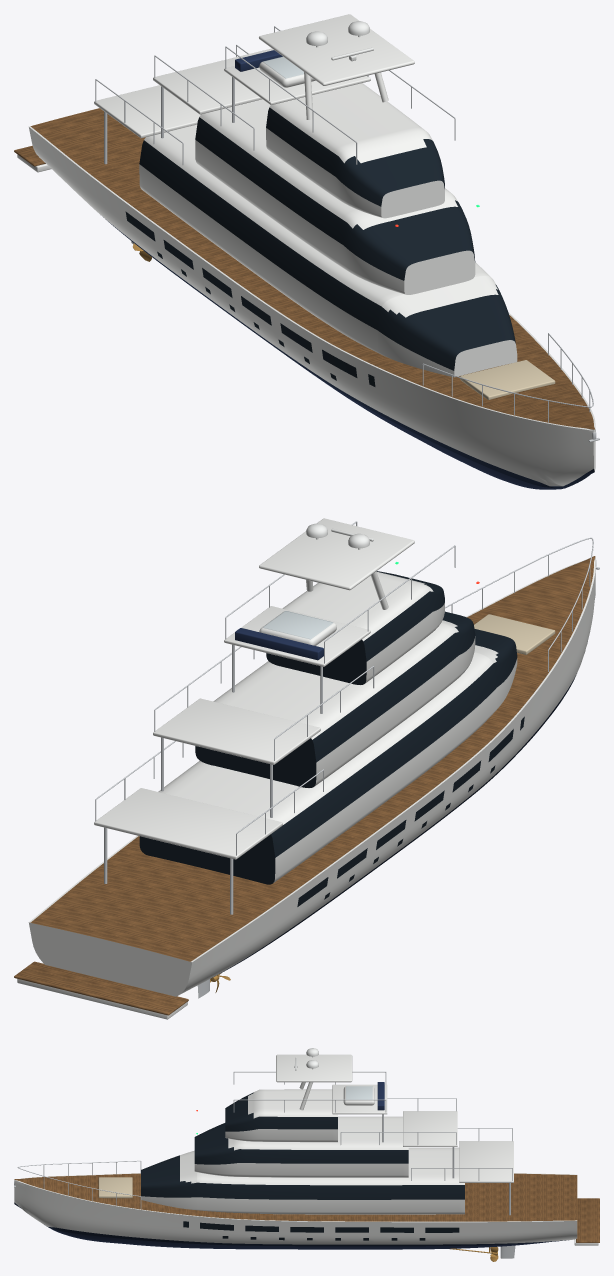
File: solana-superyacht.glb
3 renders of one model, top to bottom at view 1: azimuth 30°, elevation 25°; view 2: azimuth 150°, elevation 25°; view 3: azimuth 270°, elevation 25°, orthographic. The views are drawn at different scales.
Visible parts, largest first — view 1: Superyacht; view 2: Superyacht; view 3: Superyacht.
Part boxes in pixels (bbox=[...]): Superyacht: bbox=[14, 14, 599, 489]; Superyacht: bbox=[14, 518, 599, 1019]; Superyacht: bbox=[14, 1048, 599, 1261].
Bounding box in the file's own units: 8.5 × 15.46 × 41.62.
Materials: 13 (1 with a texture image).
